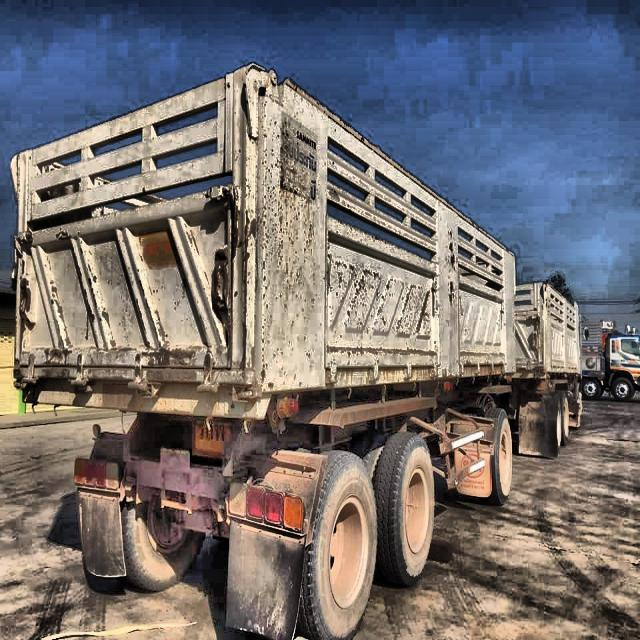trailer: (0, 58, 593, 640)
